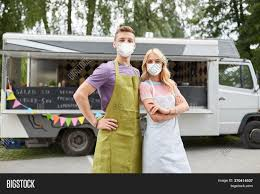with-mask: (112, 25, 141, 61), (141, 46, 169, 79)
